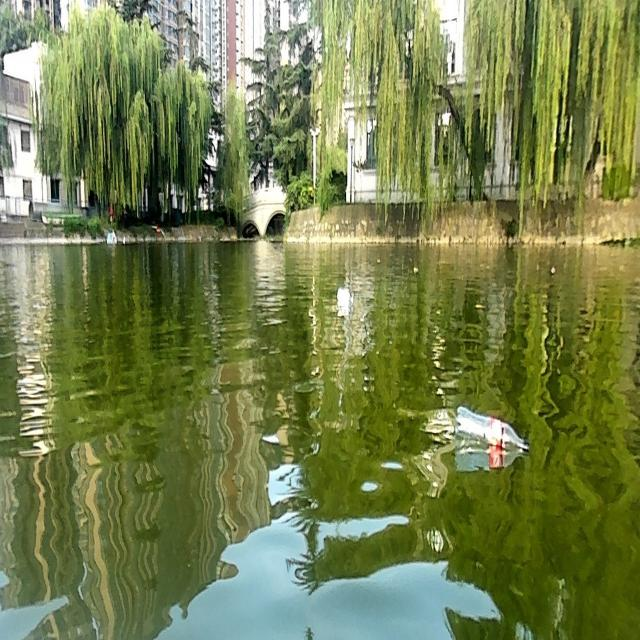bottle: (455, 405, 529, 457), (336, 287, 354, 303)
